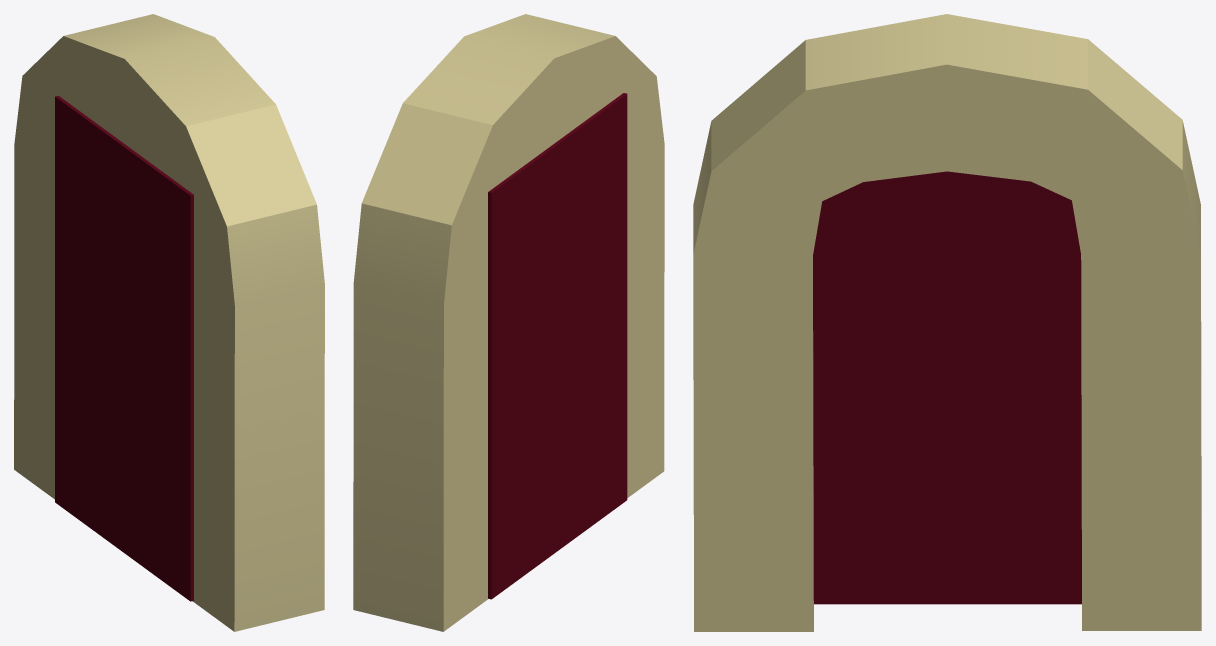
Rendered from Gate.fbx.
3 views of the same model, side by side, from view 1: azimuth 30°, elevation 25°; view 2: azimuth 150°, elevation 25°; view 3: azimuth 270°, elevation 25° (orthographic). The views are drawn at different scales.
Parts seen in each view (by area): view 1: polySurface1, pCube3; view 2: polySurface1, pCube3; view 3: polySurface1, pCube3.
Boxes of the visible parts, box(x1,y1,x2,y2) form: polySurface1: box(14, 14, 324, 631); pCube3: box(55, 95, 193, 601); polySurface1: box(353, 14, 664, 631); pCube3: box(488, 93, 627, 599); polySurface1: box(693, 14, 1201, 631); pCube3: box(813, 171, 1081, 604).
Size of the model in its own units: 1.04 by 5.23 by 4.25.
